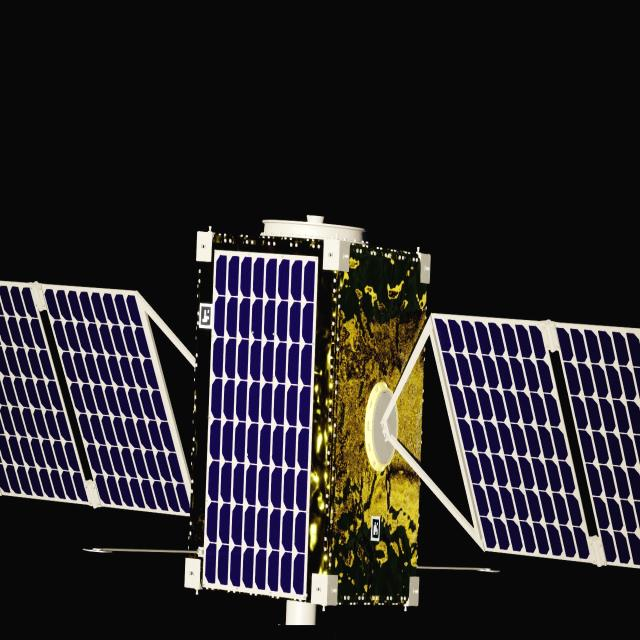satellite: (0, 217, 640, 605)
